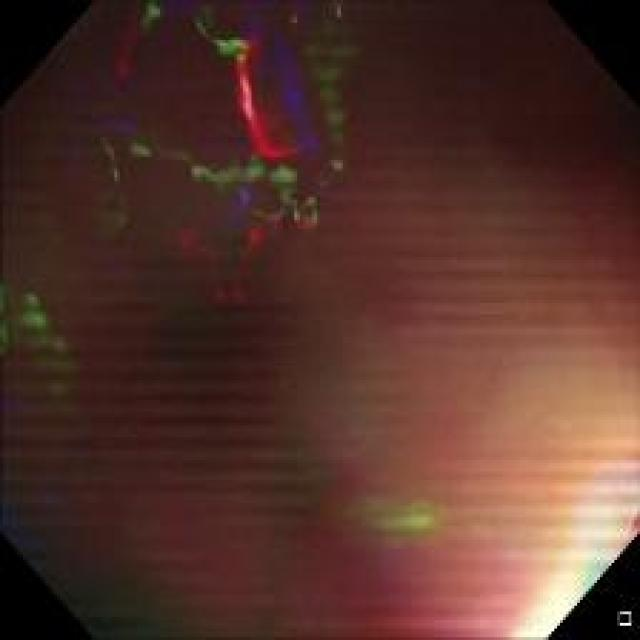color misalignment: (85, 2, 359, 295), (510, 448, 630, 630), (5, 268, 89, 439), (345, 486, 465, 550)
